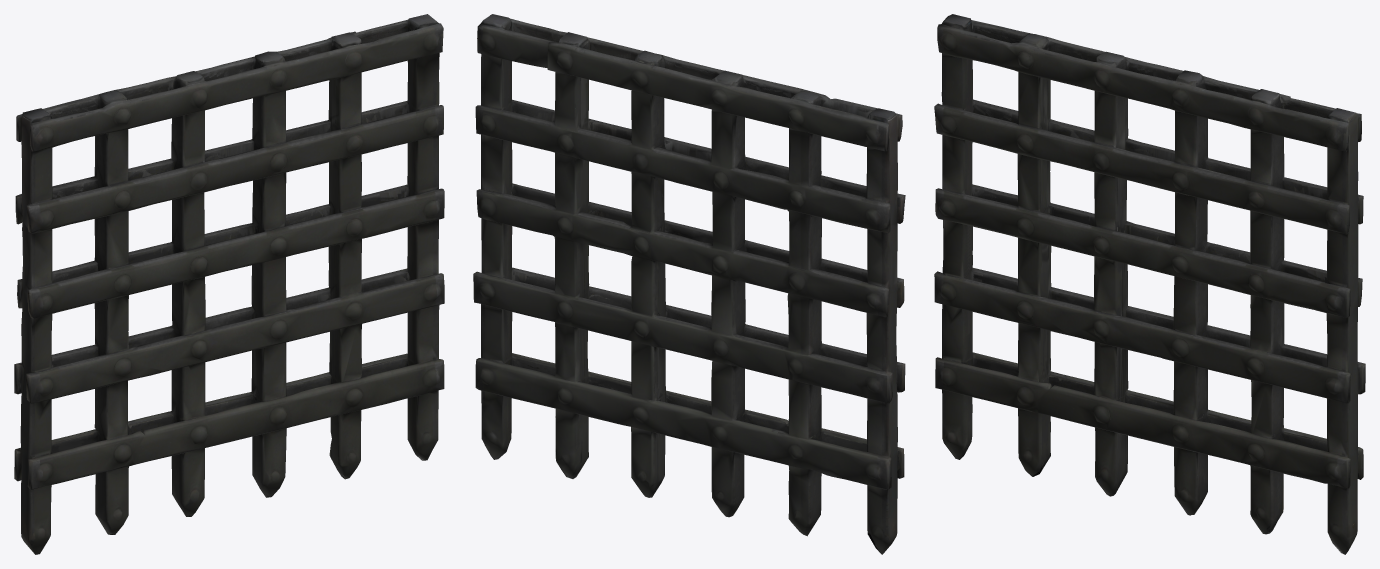
Rendered from Meshy_AI_Iron_Portcullis_0221184348_texture.glb.
3 views of the same model, side by side, from view 1: azimuth 30°, elevation 25°; view 2: azimuth 150°, elevation 25°; view 3: azimuth 330°, elevation 25° (orthographic).
Visible parts, largest first — view 1: Mesh_0; view 2: Mesh_0; view 3: Mesh_0.
Boxes of the visible parts, left/top/right/bottom form: Mesh_0: left=14, top=14, right=444, bottom=554; Mesh_0: left=473, top=14, right=905, bottom=554; Mesh_0: left=934, top=14, right=1365, bottom=554.
Bounding box in the file's own units: 1.96 × 1.99 × 0.1872.
1 material, 1 textured.
